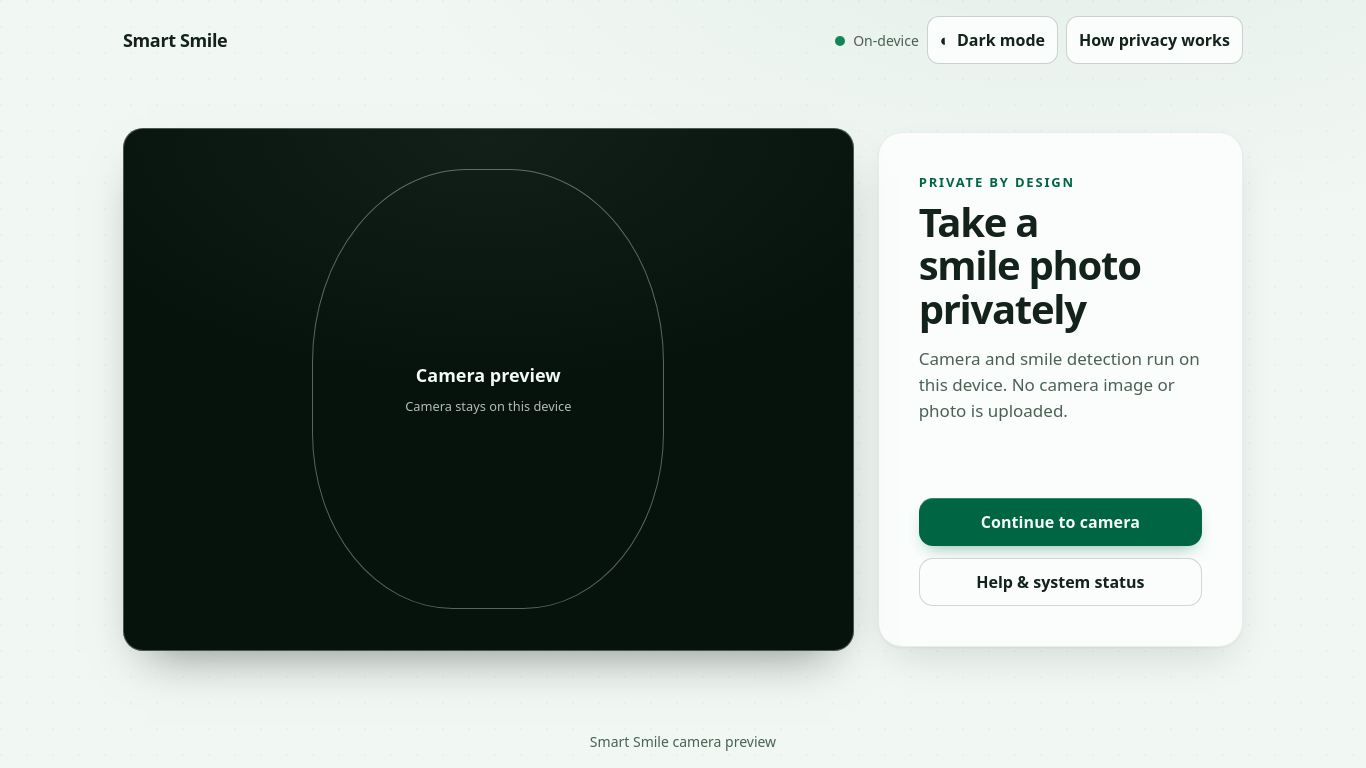
Test: Smart Smile camera session › reports bounded runtime and offline status without exposing raw failures
This screenshot has width=1366, height=768.
Later steps or results of the test are not shown.
What coordinates should you click on to do the following:
click the button "Help & system status"
I would click on:
 (1060, 582)
Its box is [919, 558, 1202, 606].
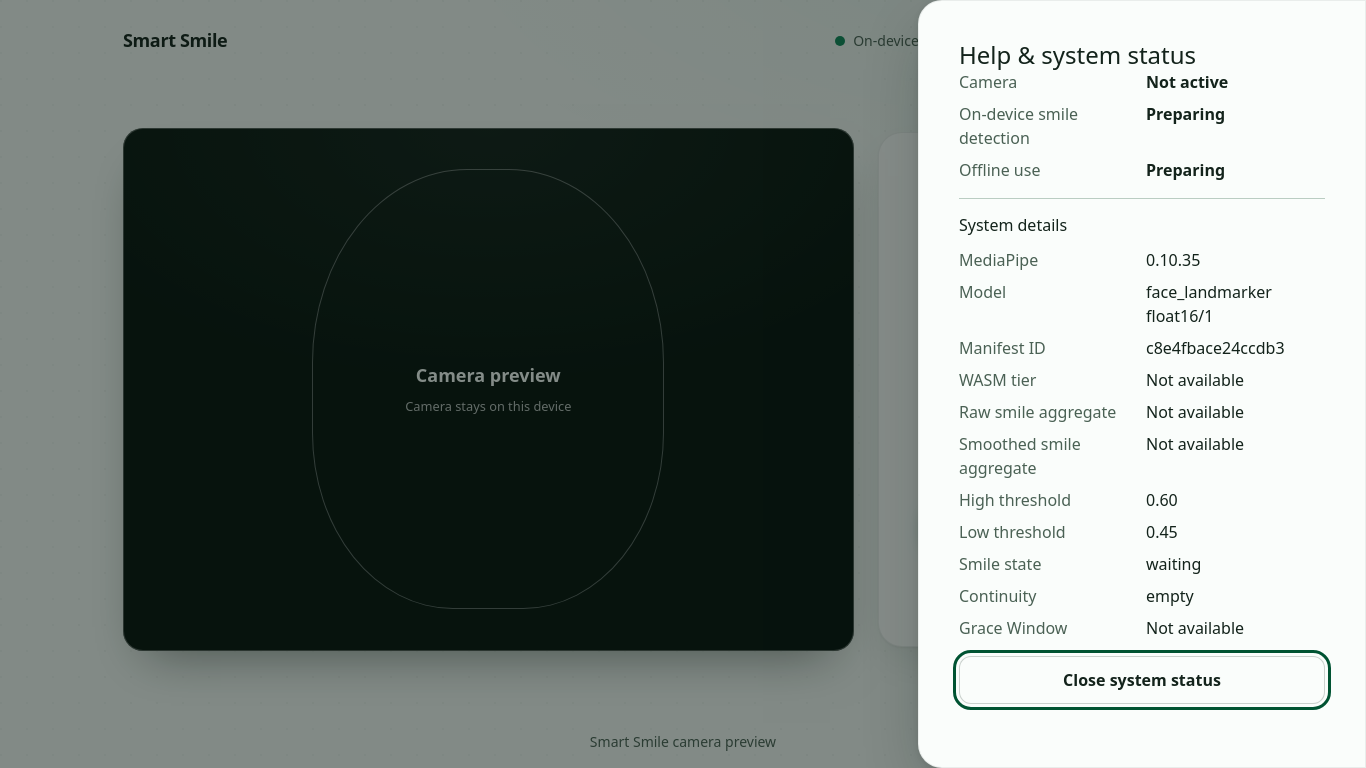
Now the text "On-device smile detection" shows "Preparing", box [1146, 103, 1225, 125]
Now the text "Offline use" shows "Preparing", box [1146, 159, 1225, 181]
